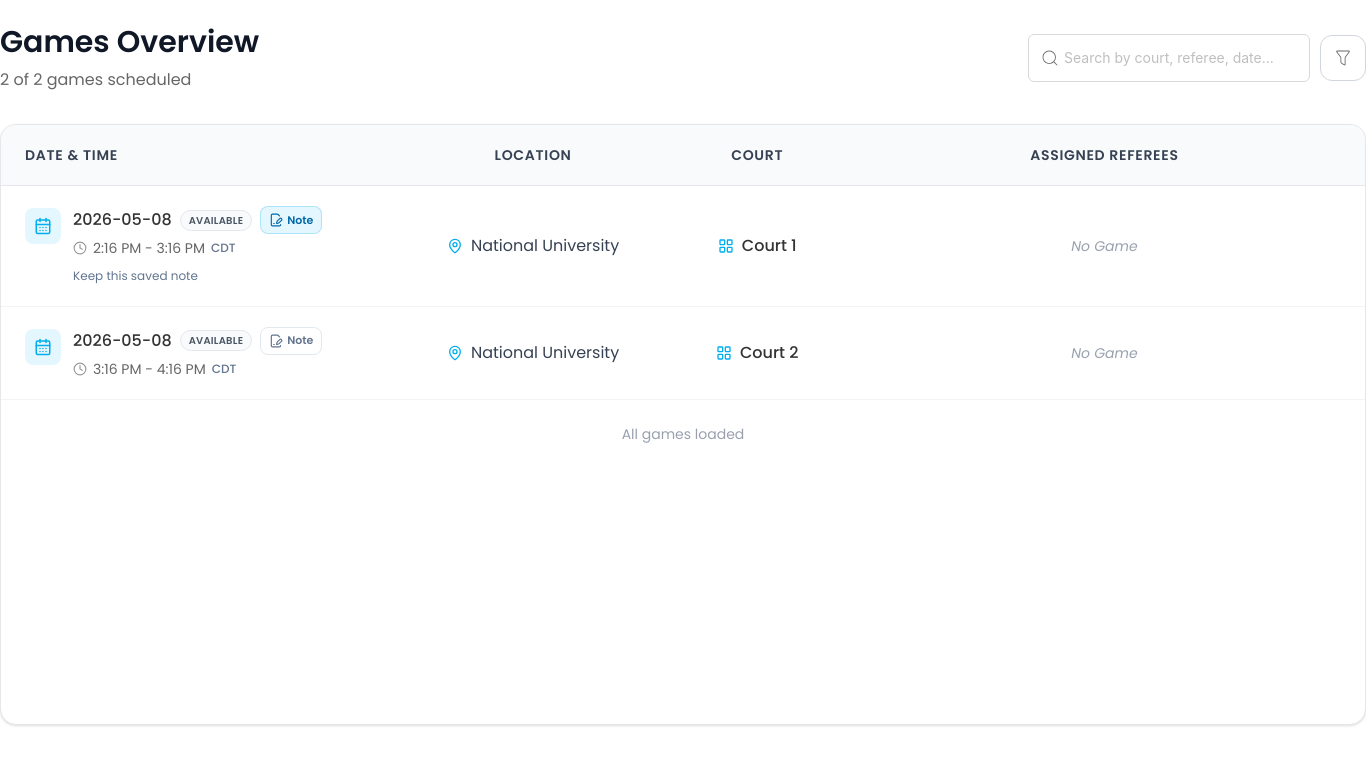
Test: Evaluator game notes › retains a saved note if deletion fails
Click the 1st button "Note": (291,220) [260,206,322,234]
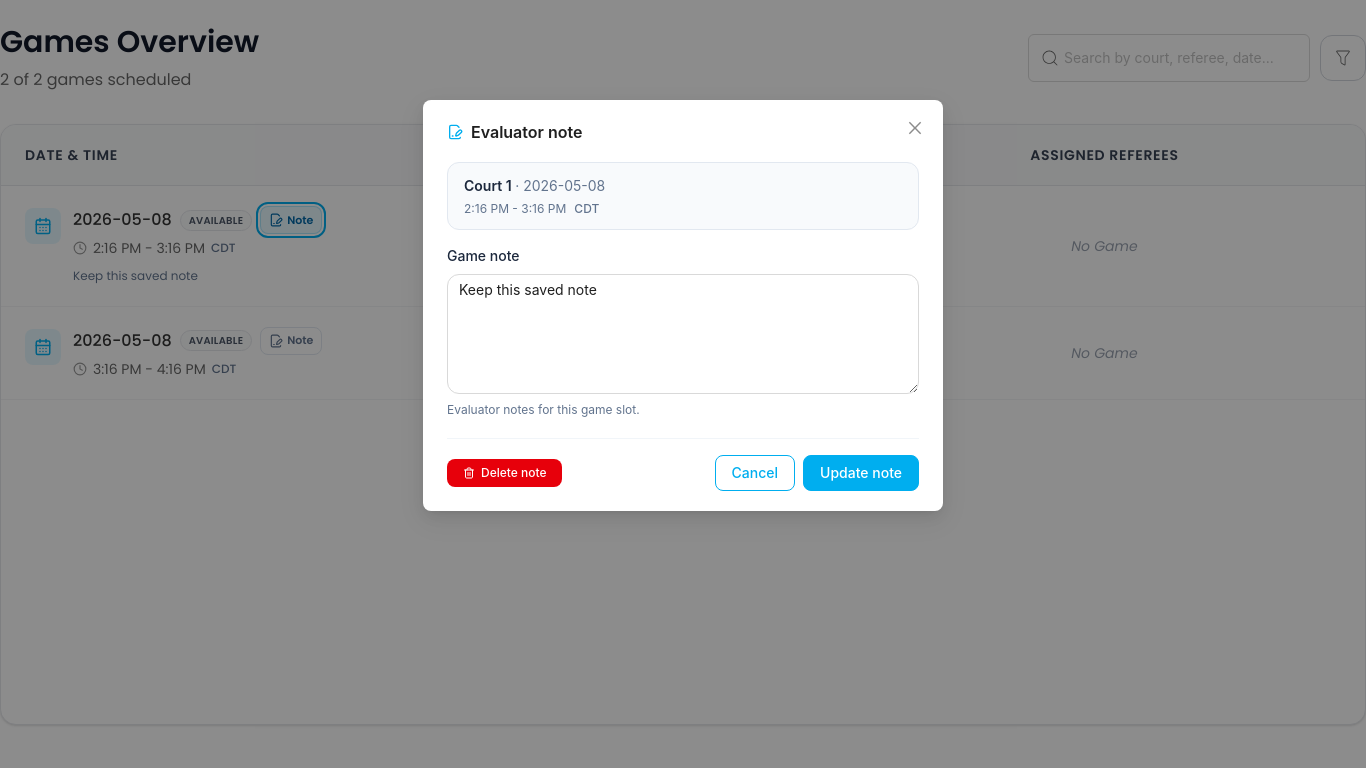
Click the button "Delete note": (505,473) [447,459,562,487]
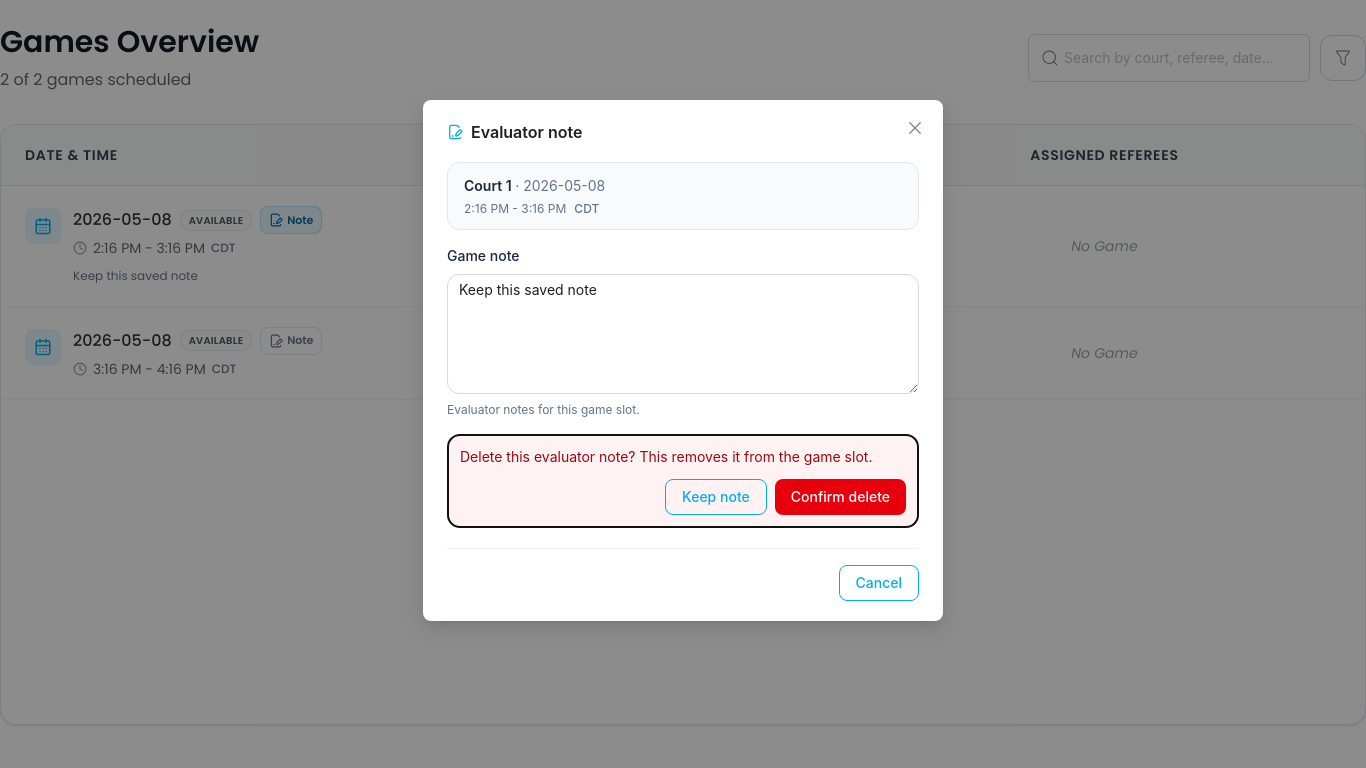
Click the button "Confirm delete": (840,497) [775,479,906,515]
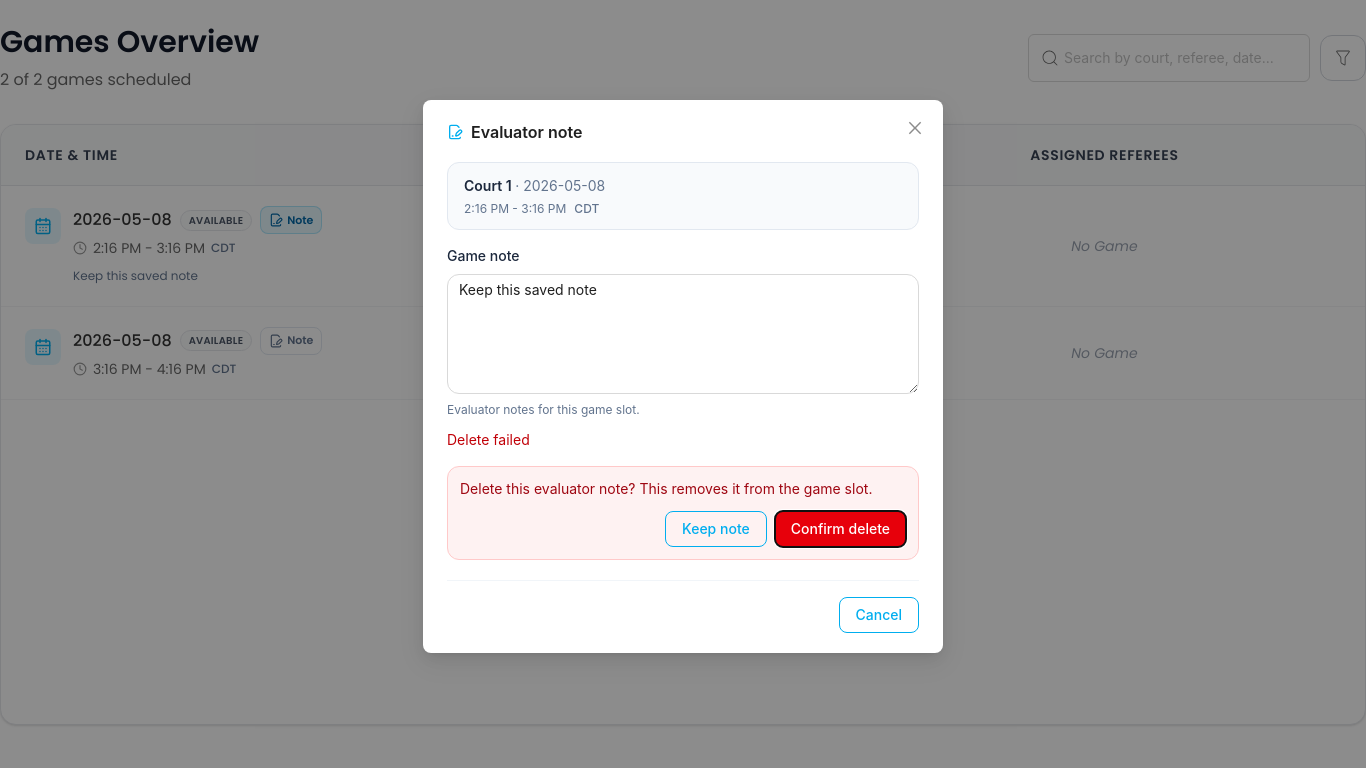
Check: the text box labelled "Game note" holds "Keep this saved note", box [447,274,919,394]
Check: the text "Delete failed" is shown, box [447,431,530,448]
